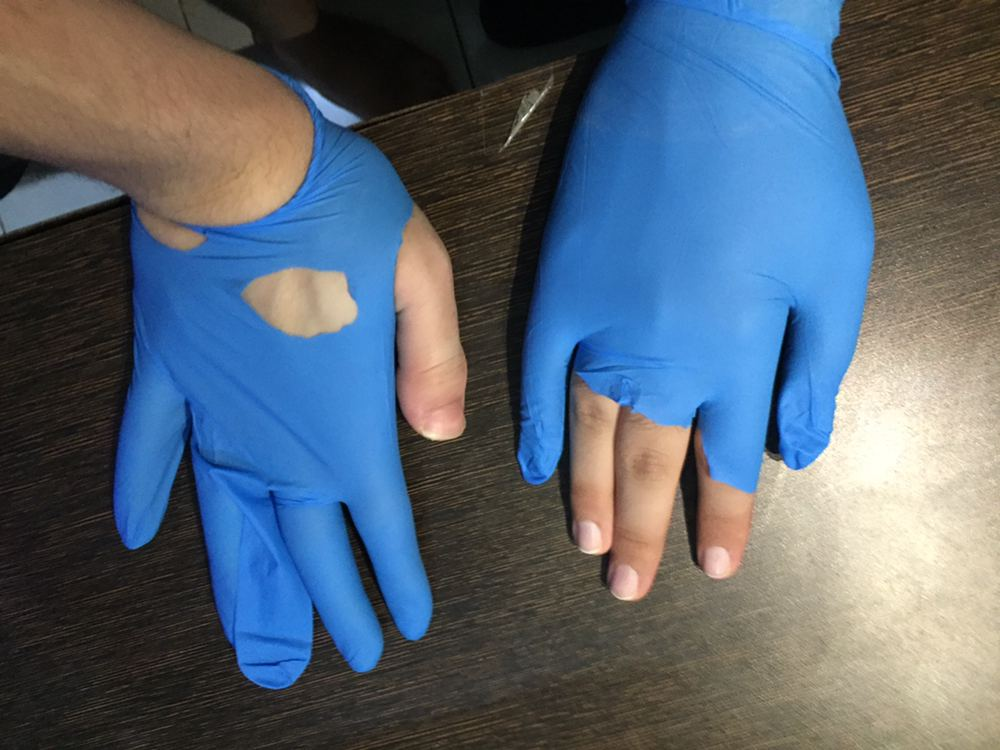defected: (495, 15, 895, 600), (71, 157, 486, 712)
